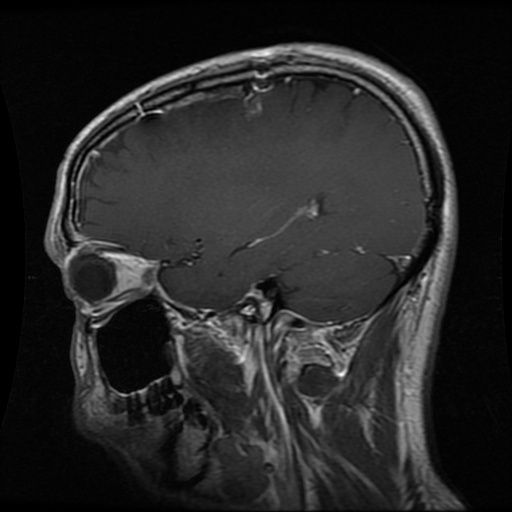glioma: (244, 93, 264, 120)
